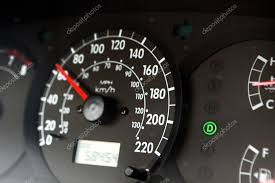Digital_Meter: (72, 132, 125, 171)
